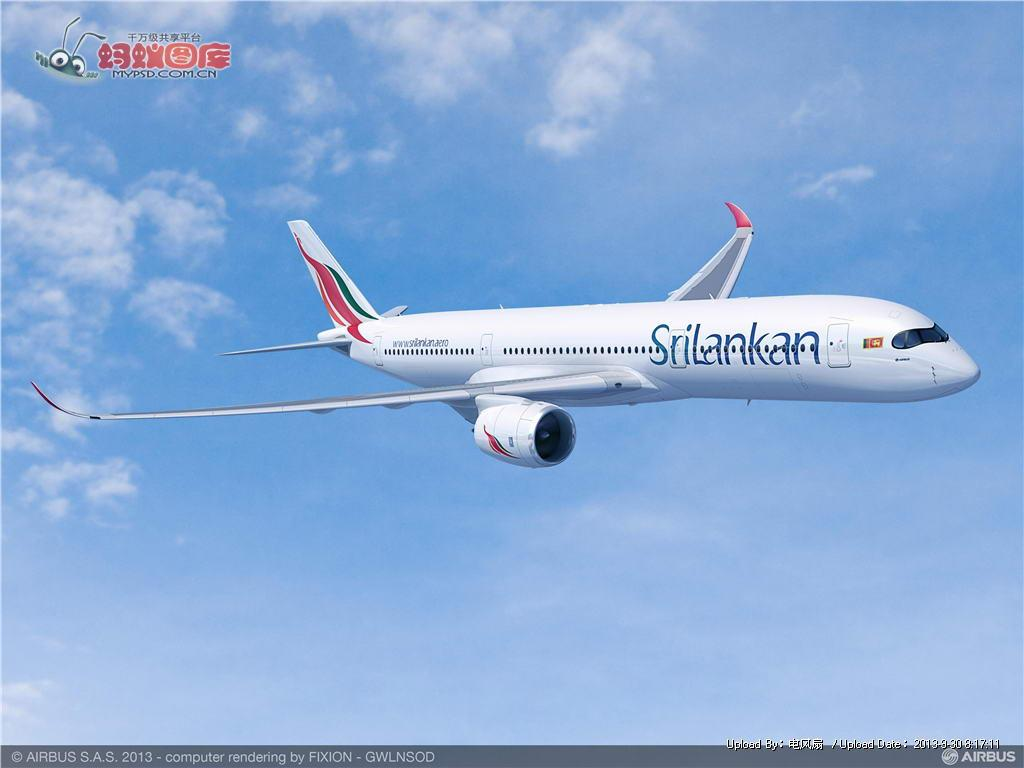airplane: (25, 191, 982, 483)
